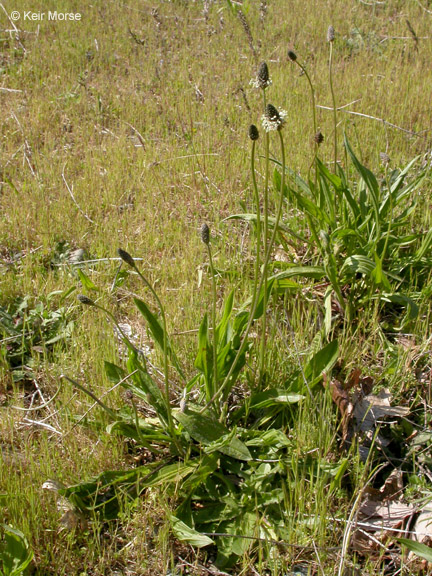buckhorn plantain: (69, 47, 307, 510), (267, 26, 419, 361)
